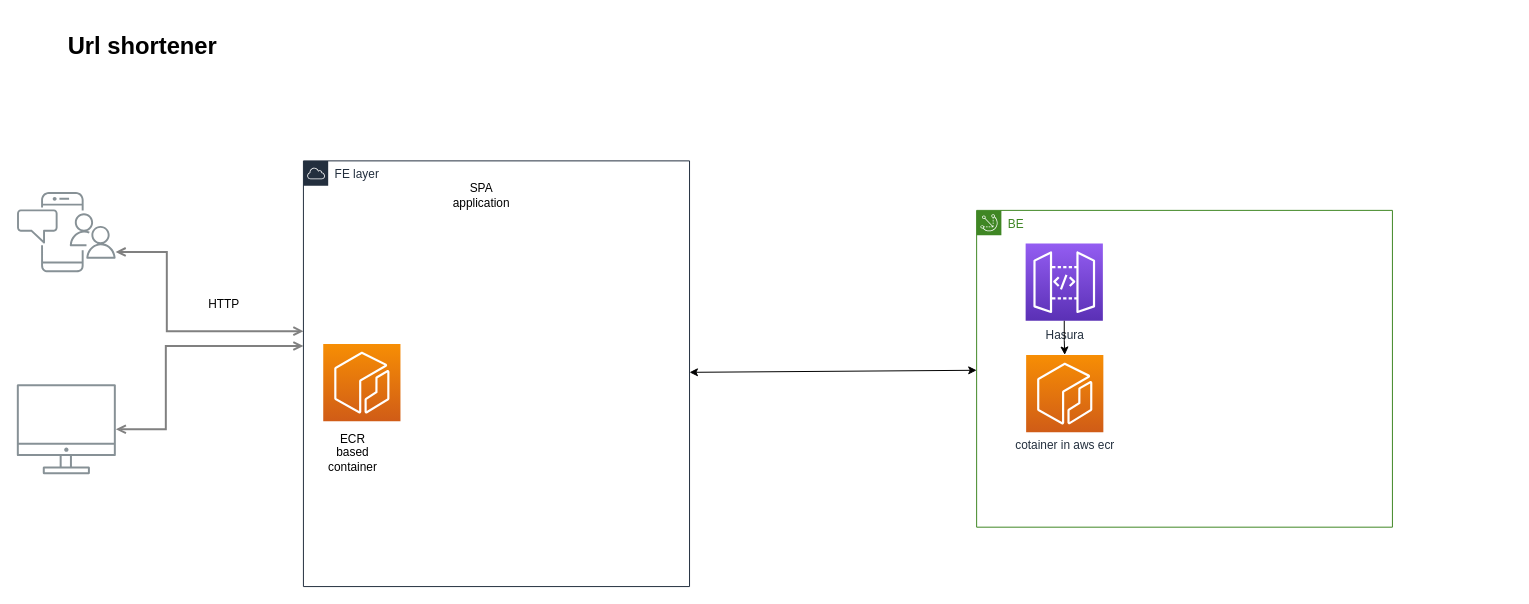
The diagram is 1529 pixels wide and 604 high, and some of its shapes have lost their labels. Here are the shapes that lost their labels. From the top down, the centre of each, then its label:
the point at 65,232: mobile
the point at 65,429: web
